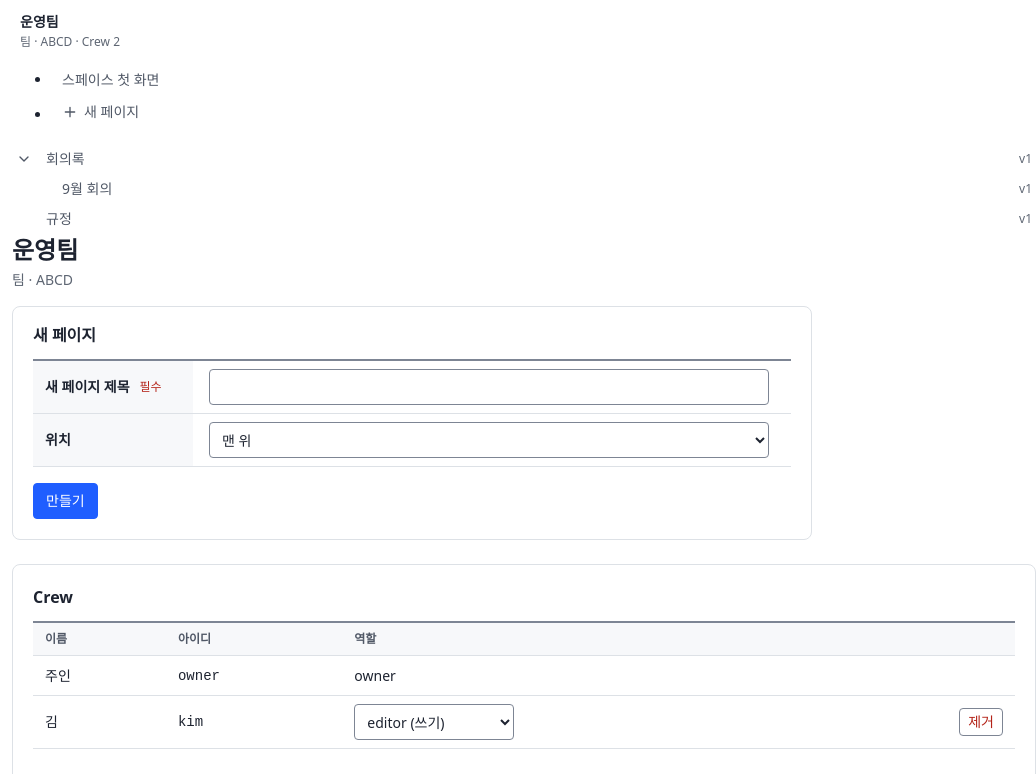
Test: SpacePage — 다시 읽을 때 (Crew를 바꾼 뒤) › **늦게 온 옛 읽기는 새 읽기를 덮지 않는다** — 연달아 바꾸면 응답 순서가 뒤바뀐다
Select "viewer (읽기만)" in the dropdown named "kim 역할" at coordinates (434, 722), box [354,704,514,740]
Select "viewer (읽기만)" in the dropdown named "kim 역할" at coordinates (434, 722), box [354,704,514,740]
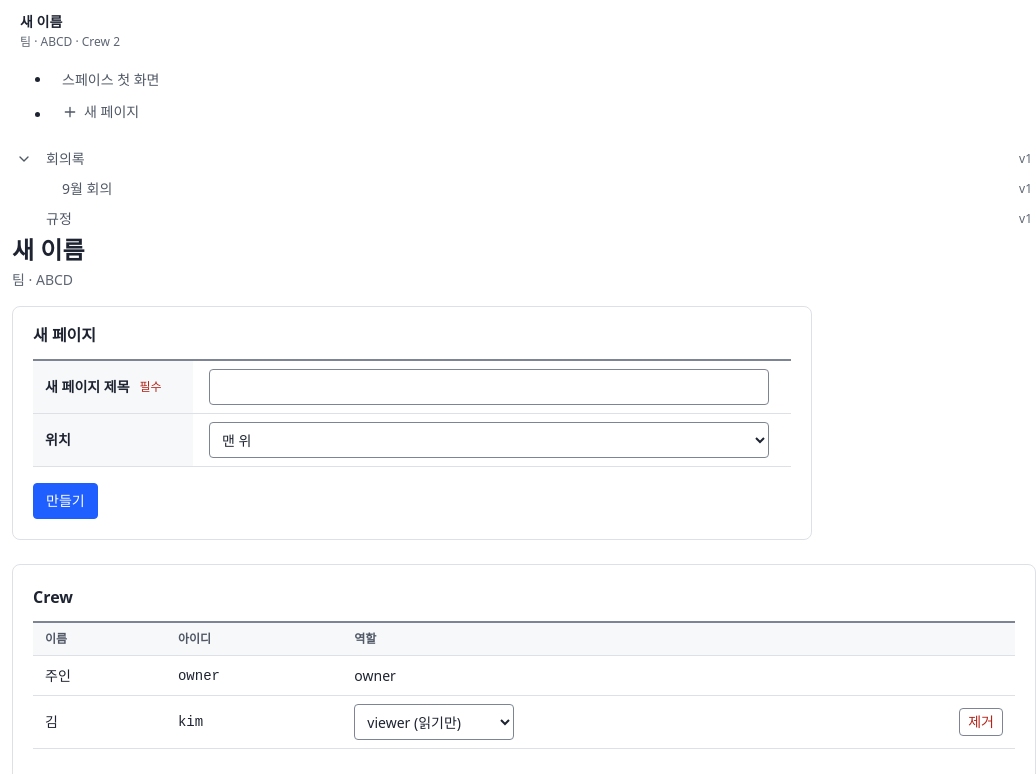
Check: the heading "새 이름" is shown, box [12,233,84,266]
